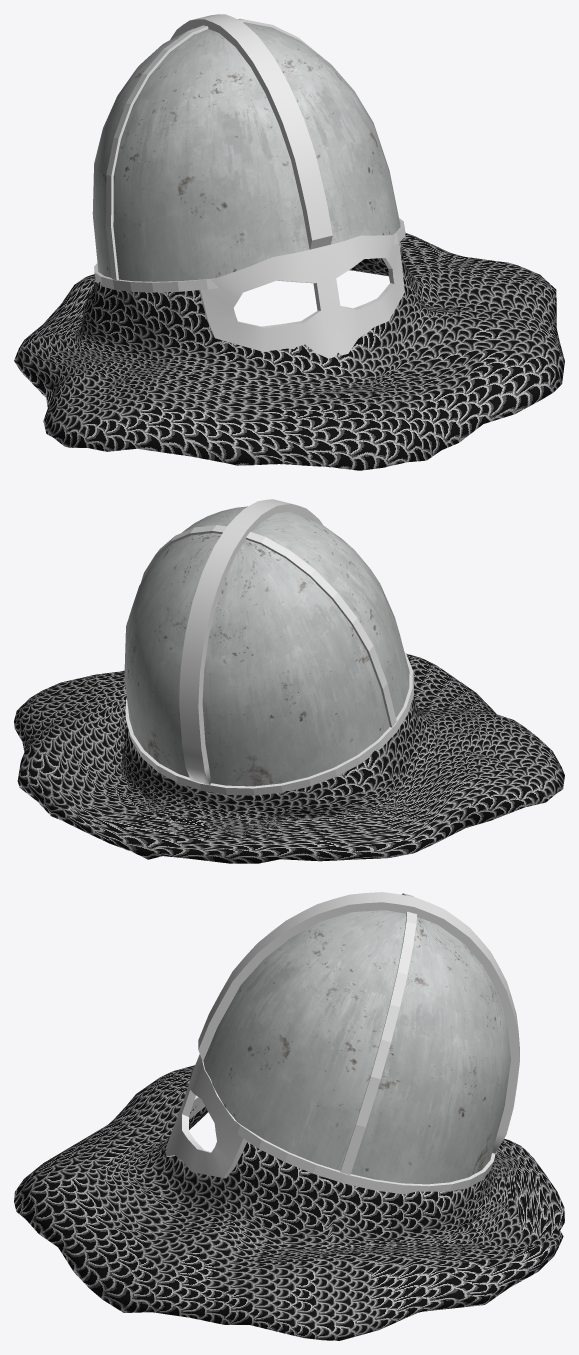
File: Helmet2.fbx
3 views of the same model, one above another, from view 1: azimuth 30°, elevation 25°; view 2: azimuth 150°, elevation 25°; view 3: azimuth 270°, elevation 25° (orthographic). The views are drawn at different scales.
Visible parts, largest first — view 1: Helmet2_LOD0; view 2: Helmet2_LOD0; view 3: Helmet2_LOD0.
Boxes of the visible parts, bbox=[...] form: Helmet2_LOD0: bbox=[14, 14, 564, 470]; Helmet2_LOD0: bbox=[14, 499, 564, 863]; Helmet2_LOD0: bbox=[14, 892, 564, 1340].
Size of what is drawn, in the model's own units: 30.07 by 17.01 by 26.74.
